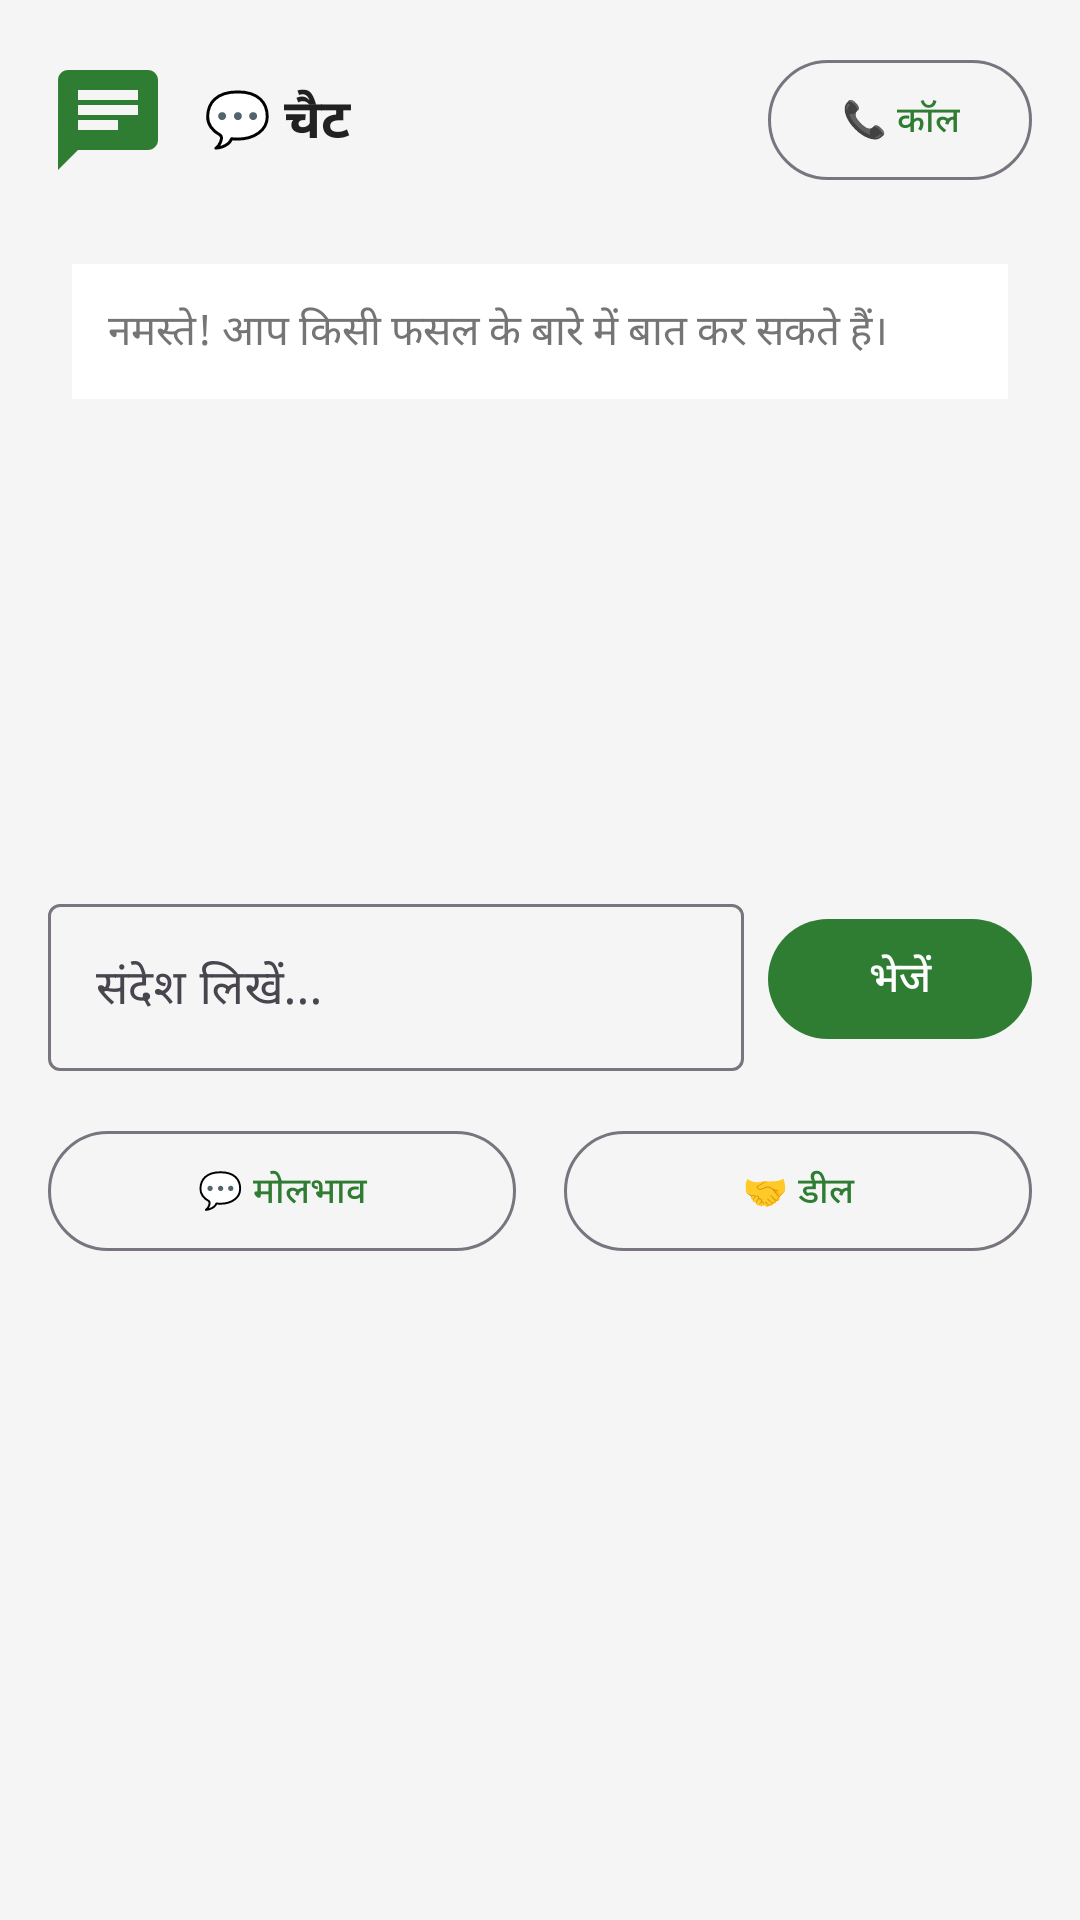

Icons on this 1080px x 1920px Android screen, each with its box as (x1, y1, x2, y2):
chat: (58, 70, 158, 170)
